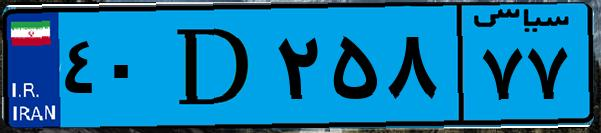0: (110, 28, 158, 98)
2: (270, 28, 330, 110)
4: (57, 26, 110, 100)
5: (330, 28, 385, 110)
7: (475, 38, 525, 113), (525, 38, 570, 115)
8: (385, 28, 445, 110)
D: (158, 12, 270, 120)
